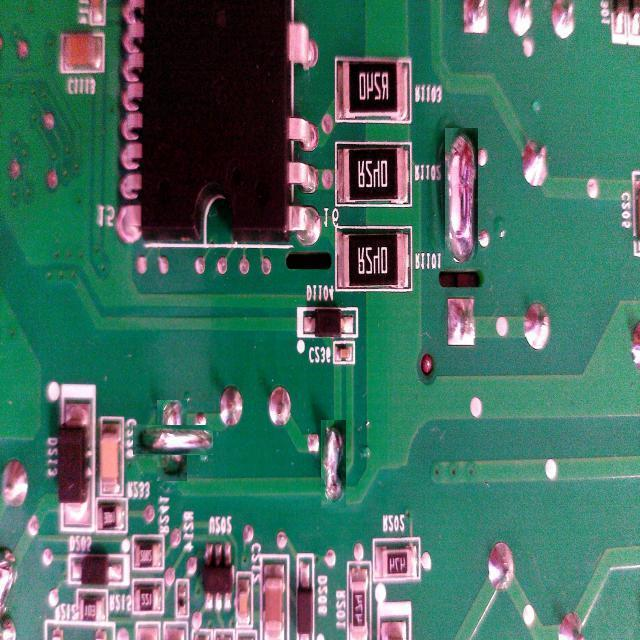Short_circuit: (445, 128, 478, 266), (145, 413, 200, 468), (322, 420, 348, 508)
